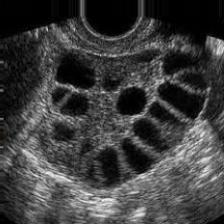pcos: (17, 36, 219, 198)
